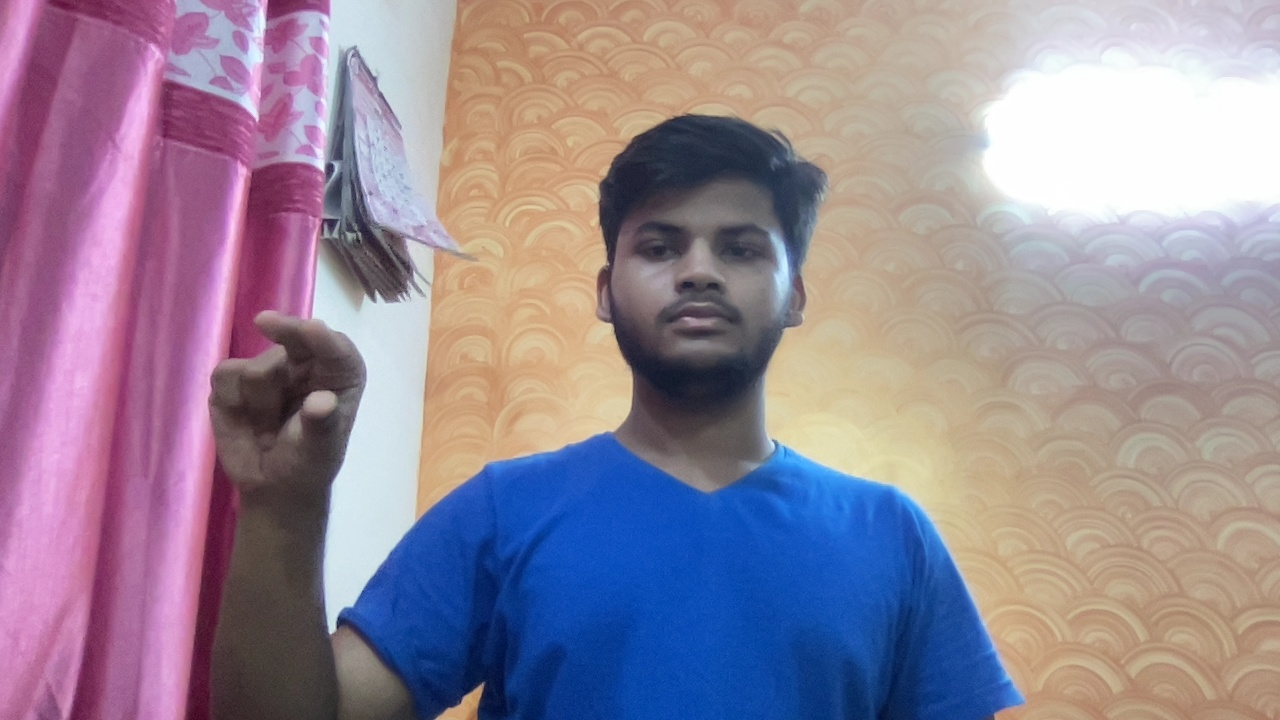no: (163, 289, 392, 499)
